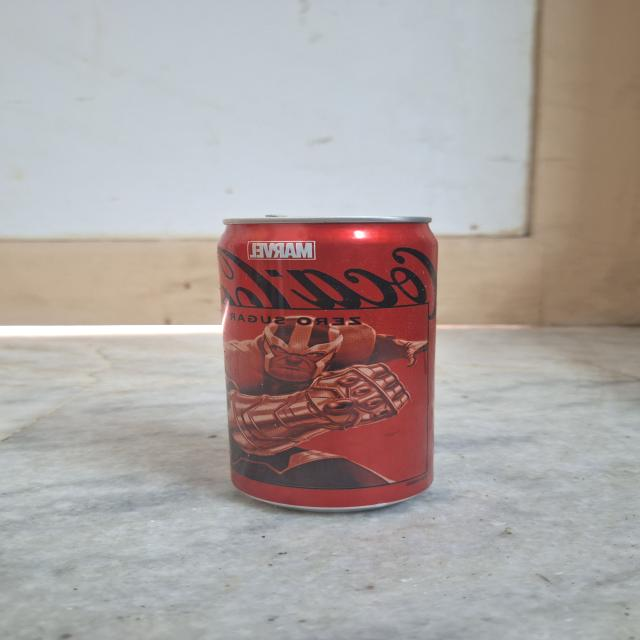Coca Cola Zero: (202, 214, 448, 522)
